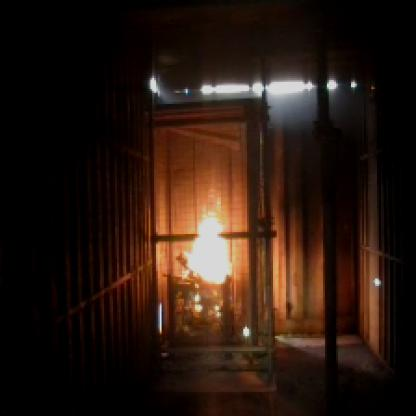Fire: (167, 176, 256, 346)
